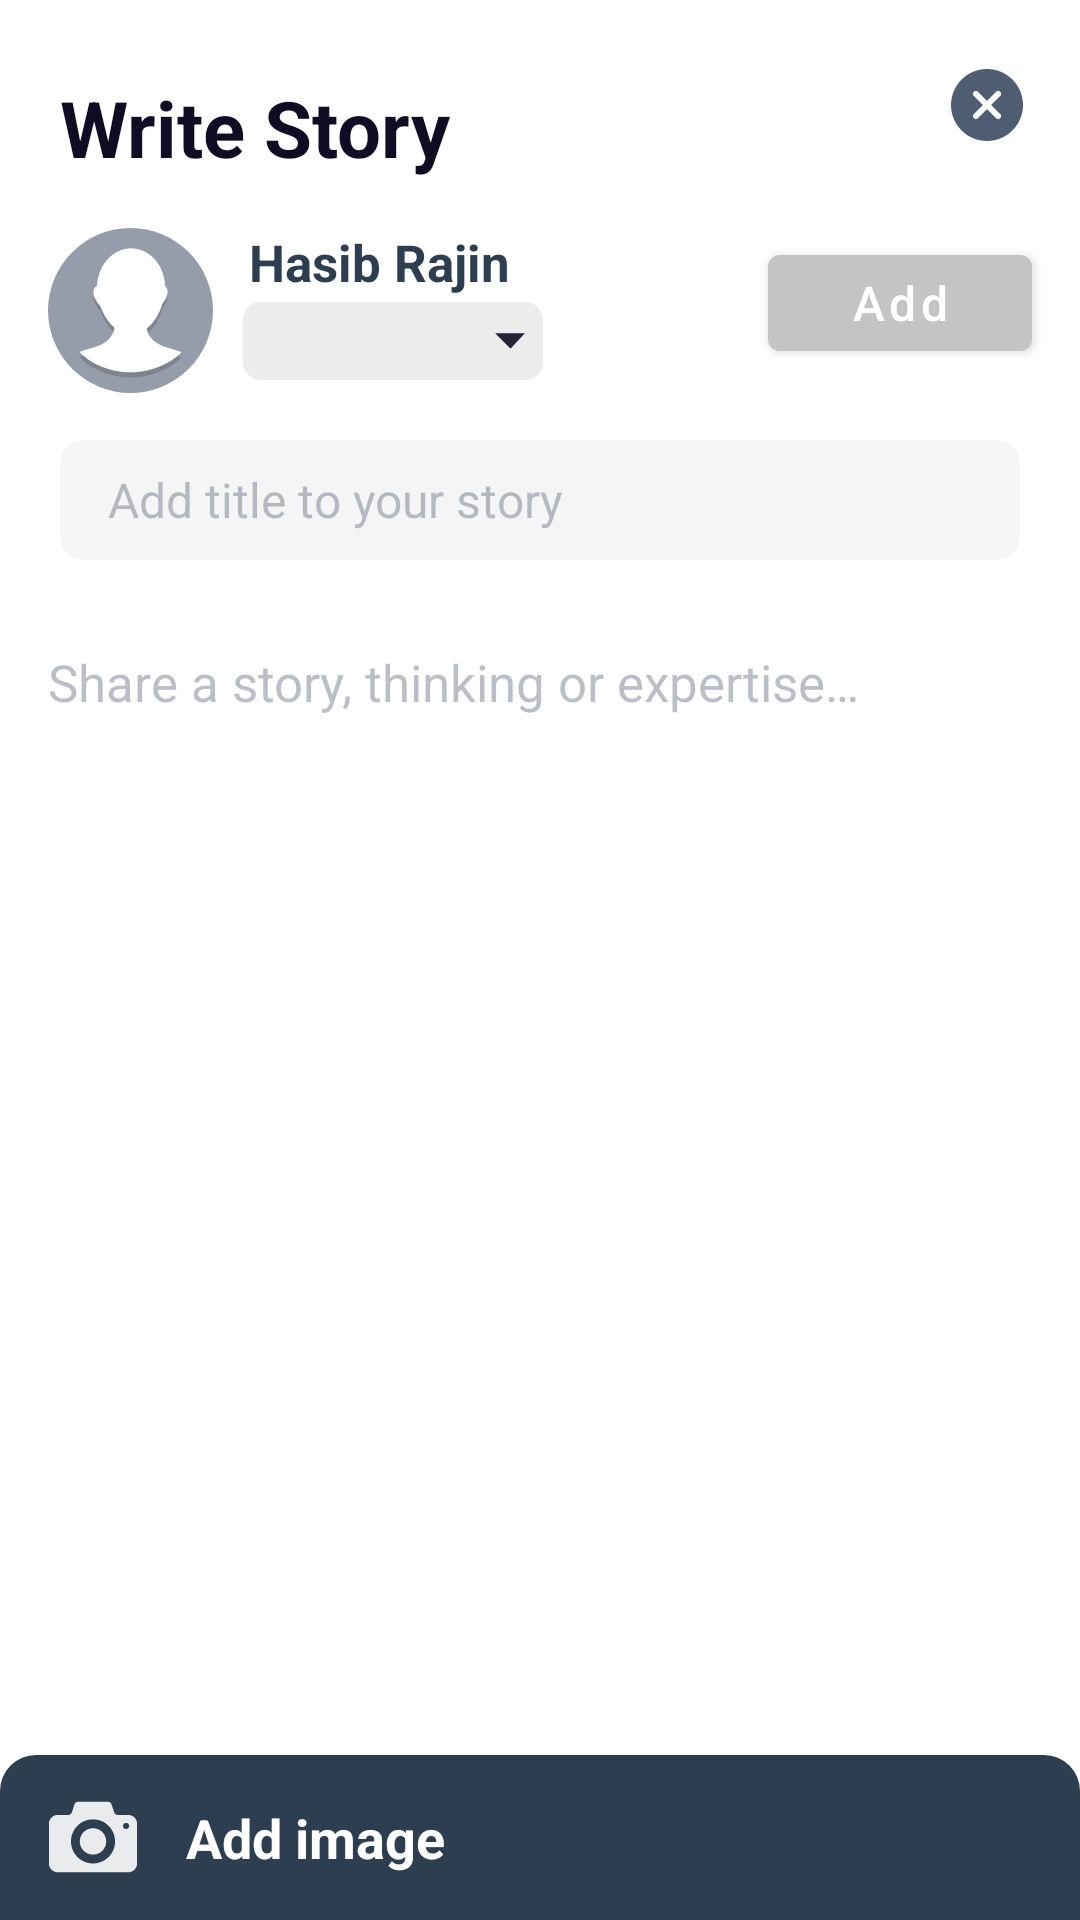

Icon click points for this 1080px×1920px phone screenshot, format (x,y):
cancel circle: (987,105)
circle profile: (130,310)
drop: (510,341)
